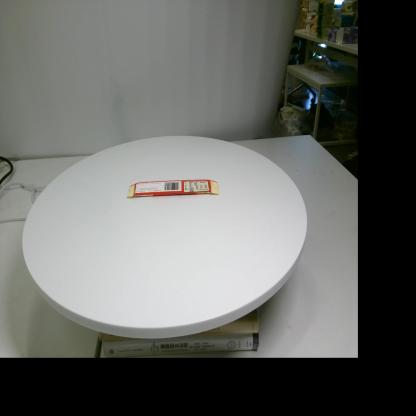Chocolate: (128, 179, 219, 197)
